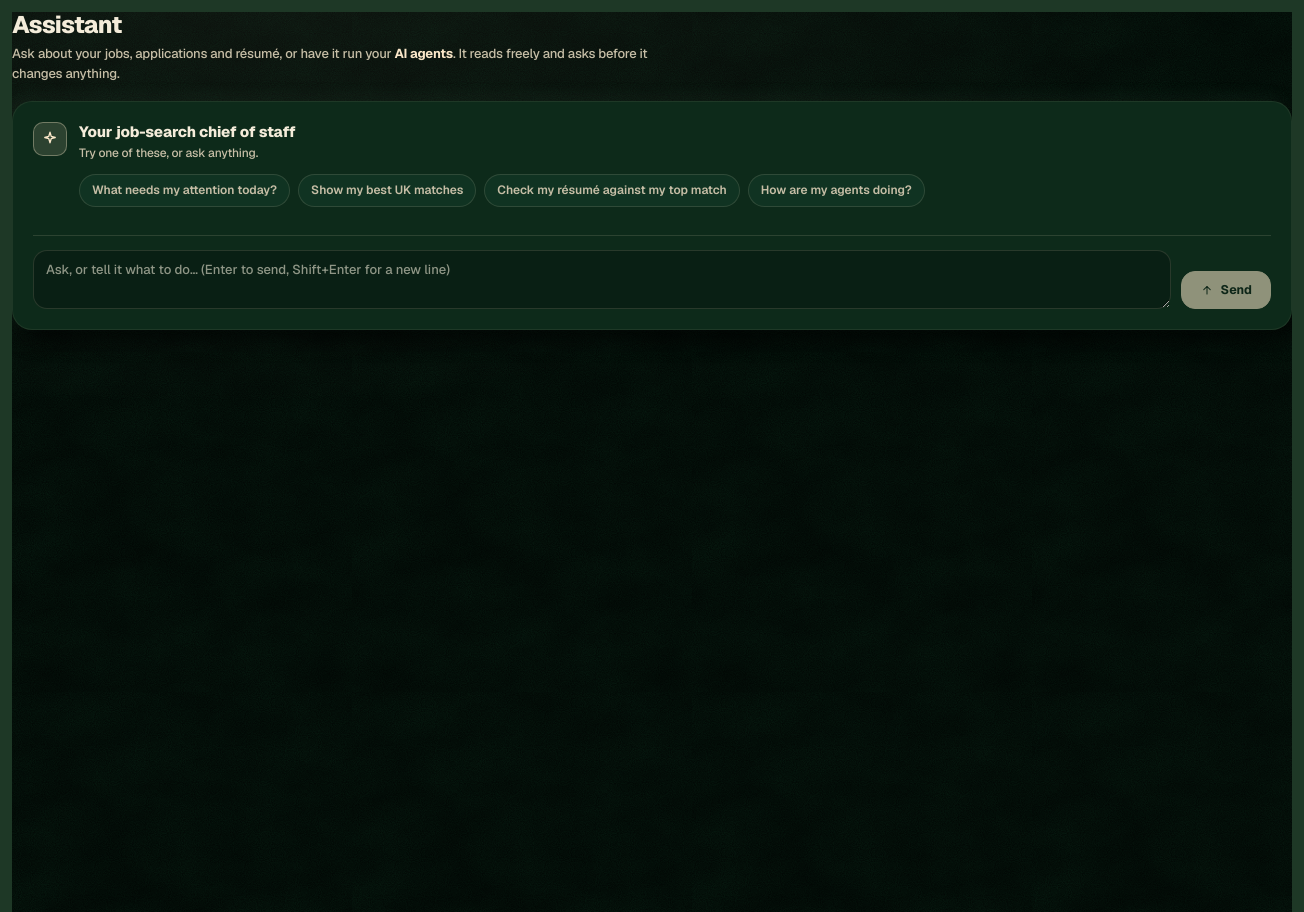
Scenario: AssistantPage › shows a confirmation card and confirms through the token
Type "Apply to Data PM" into the text box named "Message the assistant" at [602, 280], box [33,250,1171,309]
Then press Enter
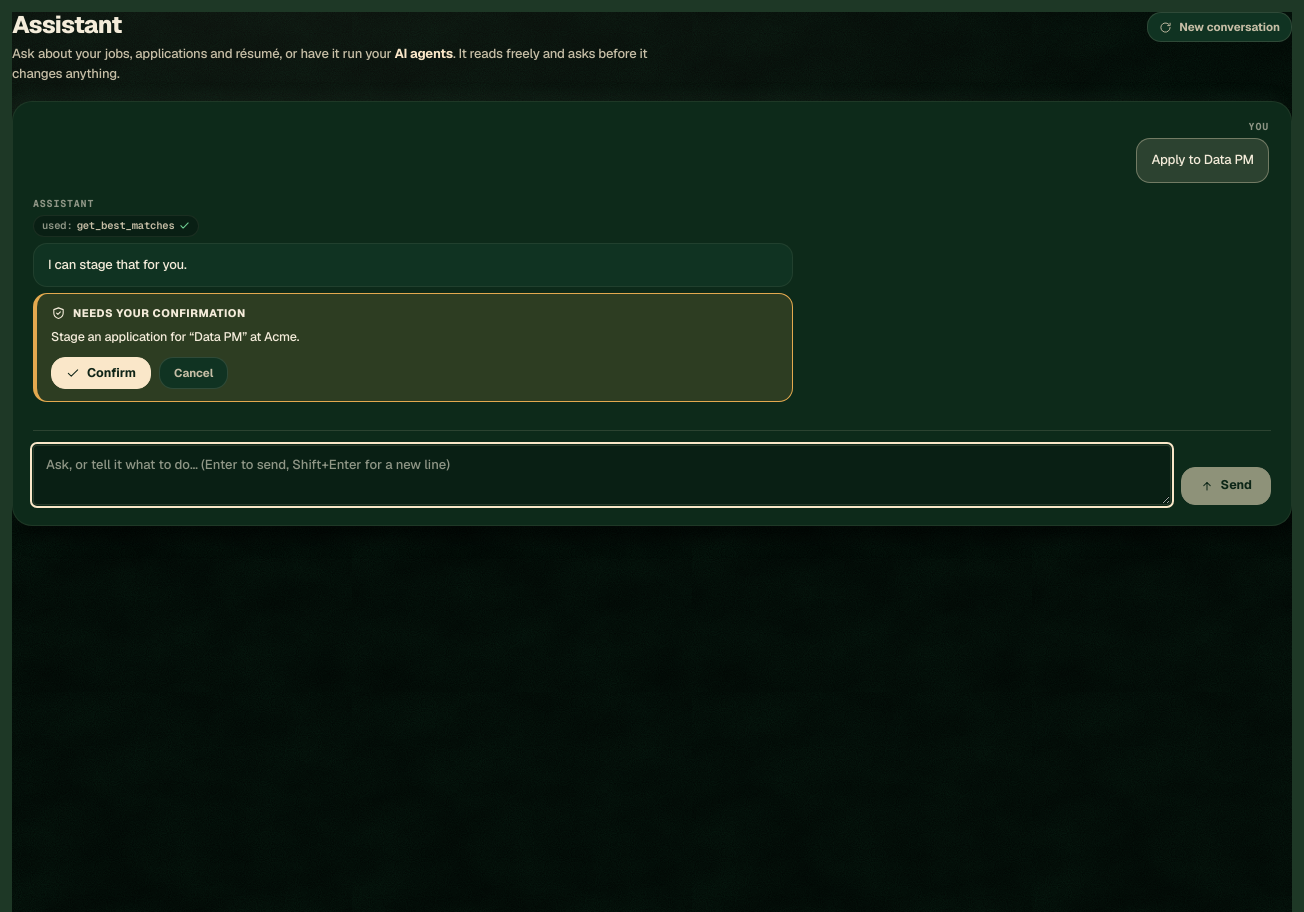
expect the text "Stage an application for “Data PM” at Acme." is shown: met, box [51,328,299,345]
Click the button "Confirm" at [101, 373], box [51,357,151,389]
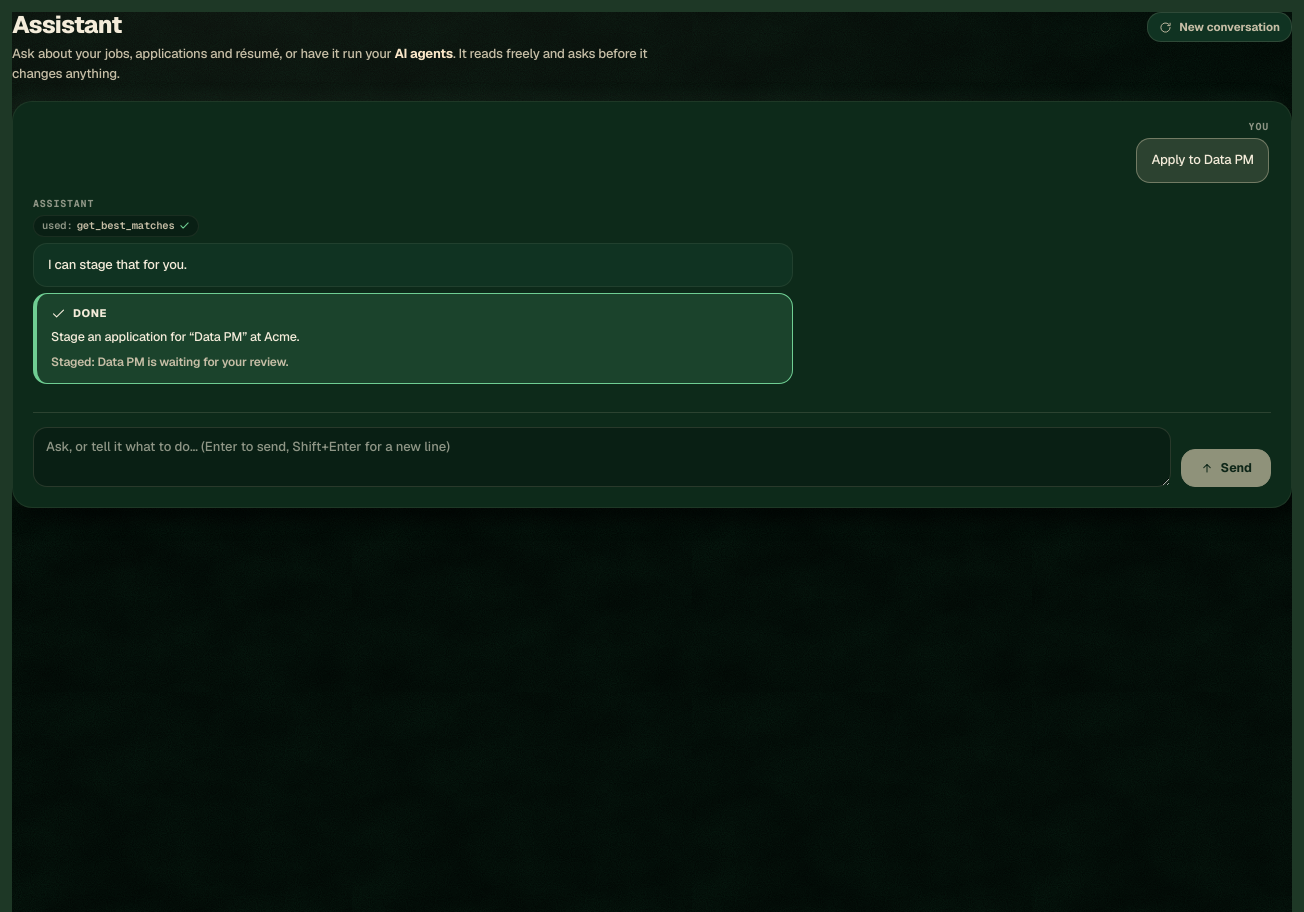
expect the text "Staged: Data PM is waiting for your review." is shown: met, box [51,354,288,370]
